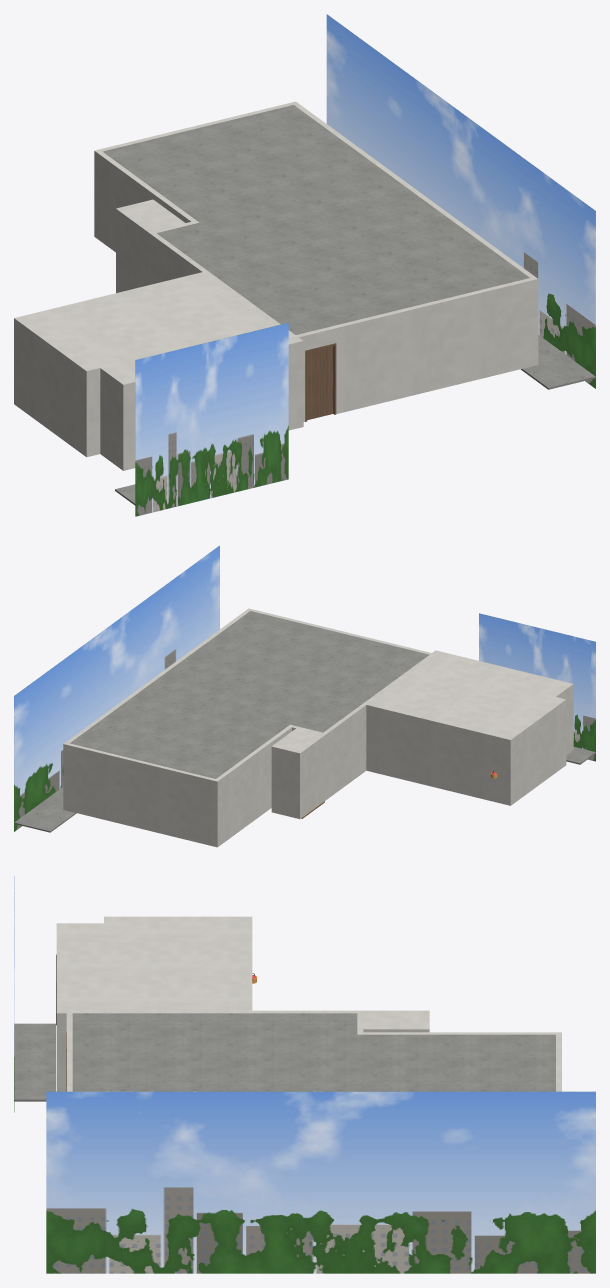
File: room.glb
3 views of the same model, one above another, from view 1: azimuth 30°, elevation 25°; view 2: azimuth 150°, elevation 25°; view 3: azimuth 270°, elevation 25° (orthographic). The views are drawn at different scales.
Parts seen in each view (by area): view 1: Sky_East, Ceiling_Hall, Sky_South, Ceiling_Lounge, Wall_Hall_South_3, Ceiling_Kitchen, Wall_Kitchen_West_2, Wall_Lounge_West_1, Corridor_Wall_W, Exterior_Ground, Wall_Kitchen_WestLower_1, Door_Closet_Slab (+9 smaller); view 2: Sky_East, Ceiling_Hall, Wall_Lounge_North_1, Ceiling_Lounge, Wall_Kitchen_North_1, Ceiling_Kitchen, Sky_South, Wall_Lounge_West_1, Wall_Hall_West_1, Wall_Kitchen_West_2, Ceiling_Kitchen_S, Corridor_Wall_End (+6 smaller); view 3: Sky_East, Ceiling_Hall, Ceiling_Kitchen, Ceiling_Lounge, Ceiling_Kitchen_S, Exterior_Ground, Corridor_Ceiling, Column_KitchenCorner, Wall_Kitchen_North_1, Wall_Lounge_West_1.
Part boxes in pixels (left/top/right/bottom): Sky_East: left=326, top=14, right=595, bottom=388; Ceiling_Hall: left=156, top=176, right=529, bottom=334; Sky_South: left=135, top=322, right=288, bottom=516; Ceiling_Lounge: left=102, top=105, right=390, bottom=222; Wall_Hall_South_3: left=333, top=277, right=538, bottom=413; Ceiling_Kitchen: left=22, top=273, right=276, bottom=367; Wall_Kitchen_West_2: left=28, top=327, right=85, bottom=452; Wall_Lounge_West_1: left=97, top=151, right=197, bottom=252; Corridor_Wall_W: left=119, top=209, right=152, bottom=292; Exterior_Ground: left=115, top=335, right=595, bottom=505; Wall_Kitchen_WestLower_1: left=97, top=364, right=125, bottom=468; Door_Closet_Slab: left=307, top=346, right=333, bottom=419; Sky_East: left=14, top=545, right=219, bottom=831; Ceiling_Hall: left=144, top=611, right=429, bottom=732; Wall_Lounge_North_1: left=63, top=742, right=219, bottom=847; Ceiling_Lounge: left=70, top=689, right=289, bottom=778; Wall_Kitchen_North_1: left=366, top=703, right=512, bottom=805; Ceiling_Kitchen: left=365, top=665, right=559, bottom=737; Sky_South: left=479, top=613, right=595, bottom=761; Wall_Lounge_West_1: left=216, top=725, right=292, bottom=845; Wall_Hall_West_1: left=321, top=702, right=368, bottom=800; Wall_Kitchen_West_2: left=518, top=701, right=562, bottom=797; Ceiling_Kitchen_S: left=416, top=652, right=566, bottom=697; Corridor_Wall_End: left=271, top=745, right=302, bottom=818; Sky_East: left=46, top=1091, right=595, bottom=1273; Ceiling_Hall: left=72, top=1013, right=357, bottom=1091; Ceiling_Kitchen: left=110, top=919, right=246, bottom=1013; Ceiling_Lounge: left=357, top=1034, right=555, bottom=1091; Ceiling_Kitchen_S: left=62, top=926, right=109, bottom=1016; Exterior_Ground: left=14, top=1023, right=55, bottom=1101; Corridor_Ceiling: left=363, top=1010, right=423, bottom=1031; Column_KitchenCorner: left=56, top=1001, right=78, bottom=1091; Wall_Kitchen_North_1: left=246, top=916, right=252, bottom=1012; Wall_Lounge_West_1: left=363, top=1032, right=555, bottom=1034.
Bounding box in the file's own units: 14.16 × 5 × 14.51.
Materials: 76 (35 with a texture image).
